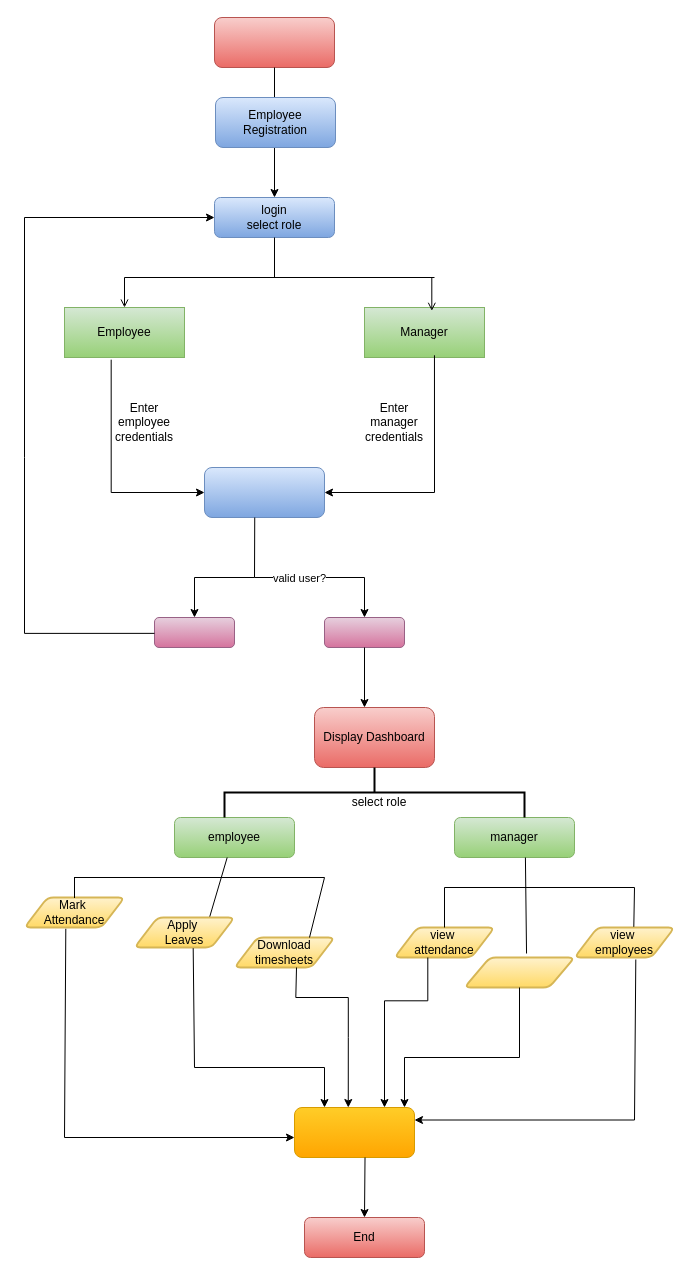
Image size: 693x1275. Some labels were removed from this diagram. Here are the shapes that lost their labels. From the top down, the centre of each, then its label:
At point 274,42: "start".
At point 264,492: "validate details and role".
At point 194,632: "no".
At point 364,632: "yes".
At point 519,972: "approve/reject leaves".
At point 354,1132: "Time Sheet Generation".
